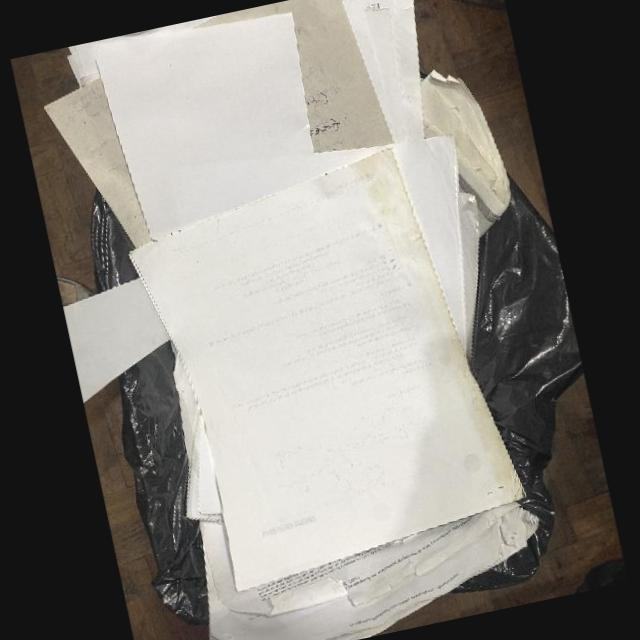giay: (129, 148, 524, 593), (96, 13, 312, 240), (115, 0, 424, 153), (199, 502, 540, 640), (45, 38, 151, 246), (420, 70, 511, 237), (63, 278, 170, 404), (175, 355, 222, 523)
